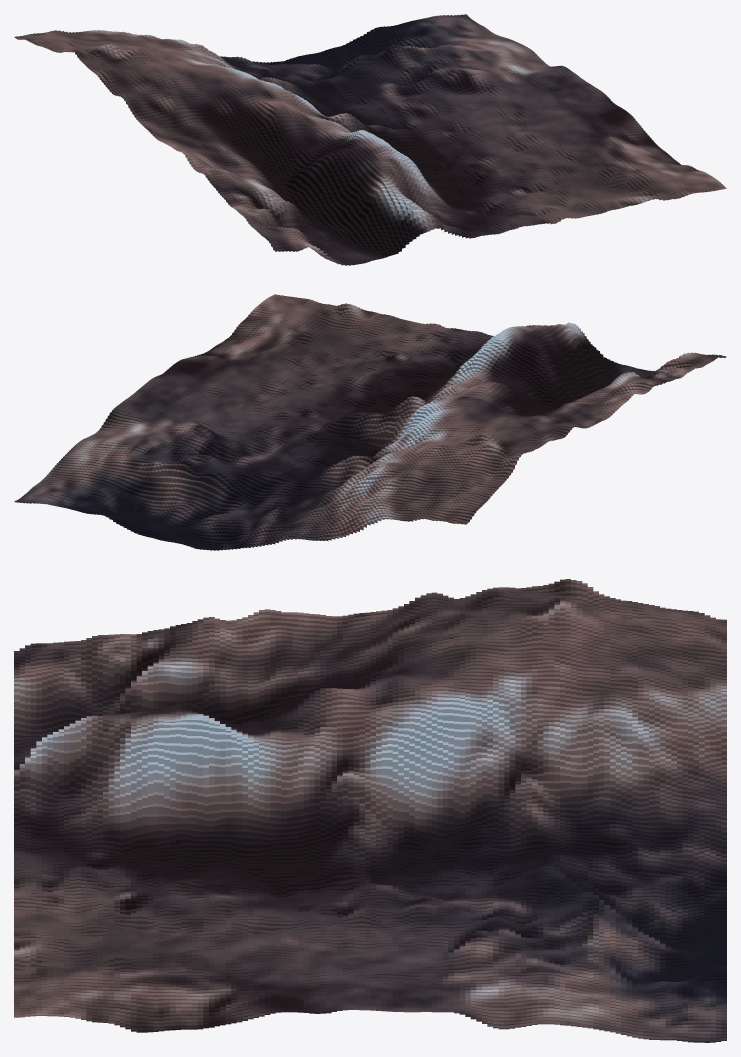
Rendered from chunk-31.glb.
3 renders of one model, top to bottom at view 1: azimuth 30°, elevation 25°; view 2: azimuth 150°, elevation 25°; view 3: azimuth 270°, elevation 25°, orthographic. The views are drawn at different scales.
Visible parts, largest first — view 1: Mesh_0.047; view 2: Mesh_0.047; view 3: Mesh_0.047.
Part boxes in pixels (x1=…): Mesh_0.047: x1=14, y1=14, x2=726, y2=265; Mesh_0.047: x1=14, y1=294, x2=726, y2=550; Mesh_0.047: x1=14, y1=579, x2=726, y2=1042.
Size of the model in its own units: 32000 by 8166 by 32000.
